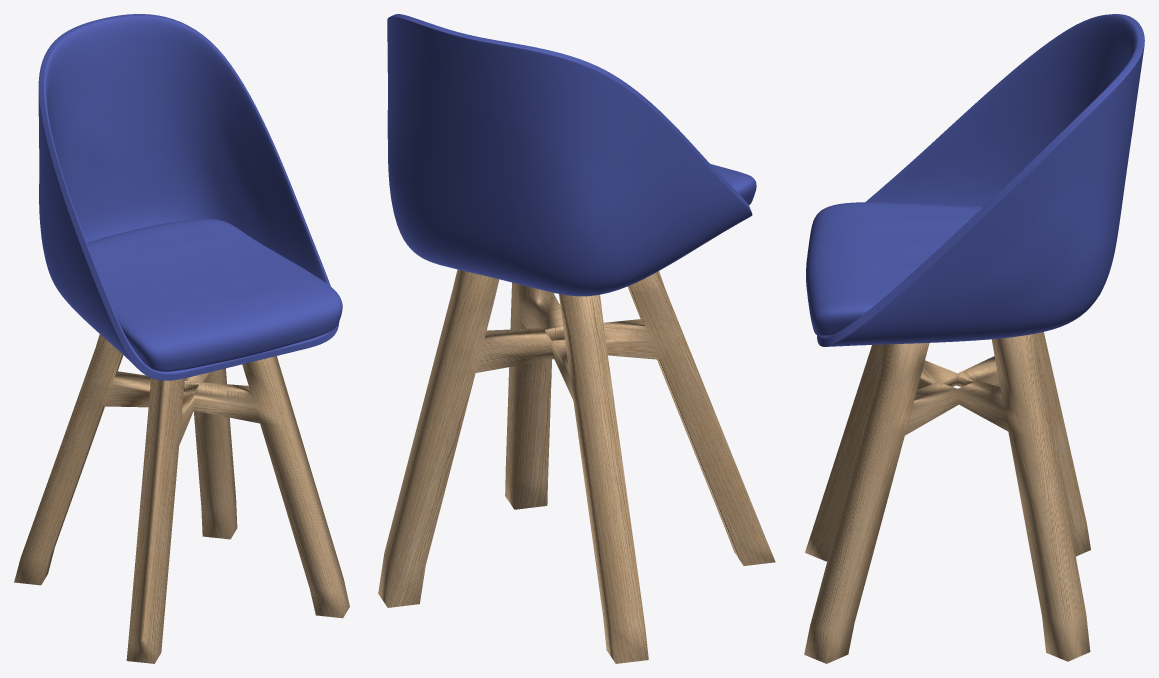
File: Chair.gltf
3 renders of one model, left to right at view 1: azimuth 30°, elevation 25°; view 2: azimuth 150°, elevation 25°; view 3: azimuth 270°, elevation 25°, orthographic. The views are drawn at different scales.
Visible parts, largest first — view 1: Cube, Cube.002, Cube.003; view 2: Cube, Cube.002, Cube.003; view 3: Cube, Cube.002, Cube.003.
Boxes of the visible parts, box(x1,y1,x2,y2) form: Cube: box(38, 14, 339, 380); Cube.002: box(14, 334, 349, 663); Cube.003: box(87, 219, 342, 371); Cube: box(387, 14, 752, 296); Cube.002: box(378, 269, 775, 663); Cube.003: box(710, 164, 756, 204); Cube: box(817, 14, 1144, 346); Cube.002: box(804, 332, 1090, 663); Cube.003: box(806, 202, 983, 336).
Bounding box in the file's own units: 1.76 × 3.76 × 2.05.
2 materials, 1 textured.
